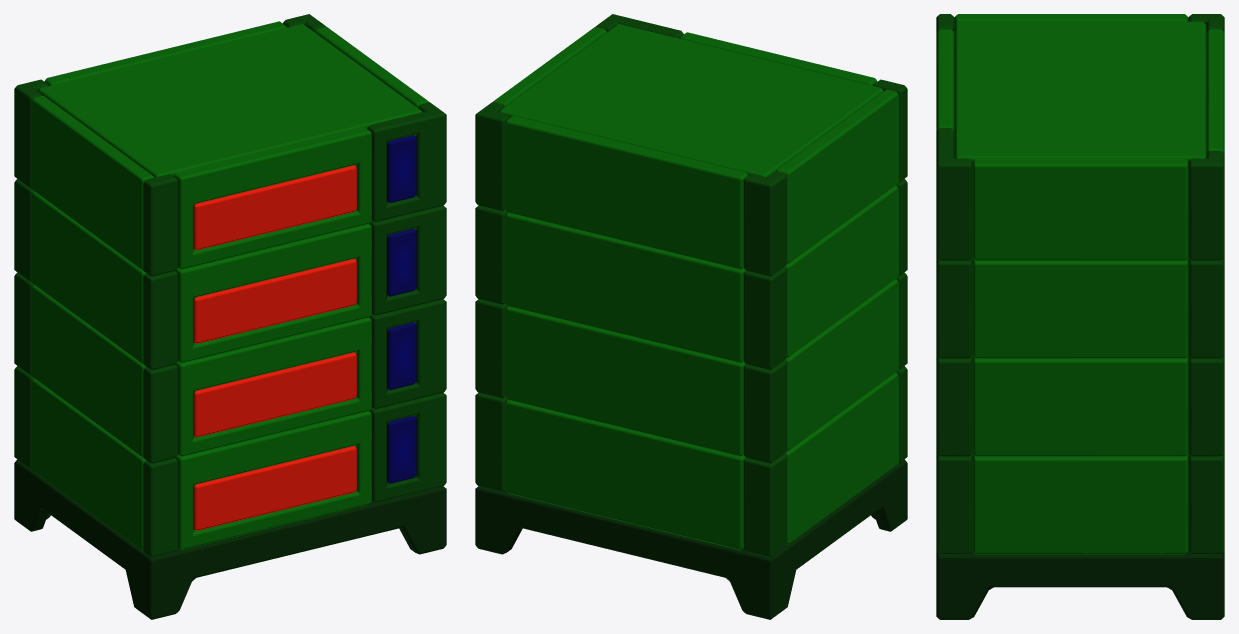
3 views of the same model, side by side, from view 1: azimuth 30°, elevation 25°; view 2: azimuth 150°, elevation 25°; view 3: azimuth 270°, elevation 25° (orthographic). The views are drawn at different scales.
Parts seen in each view (by area): view 1: Plane.585; view 2: Plane.585; view 3: Plane.585.
Part boxes in pixels (x1,y1,x2,y2): Plane.585: (14,14,446,619); Plane.585: (475,14,907,619); Plane.585: (936,14,1224,619).
Bounding box in the file's own units: 1 × 1.4 × 0.8.
